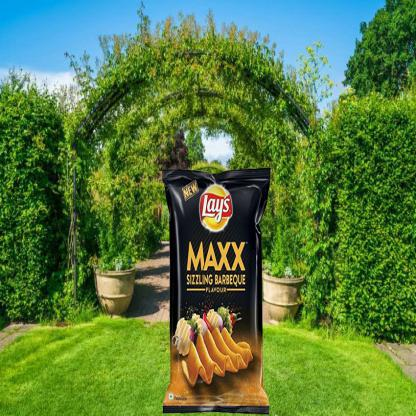maxx_sizzling_barbeque: (165, 169, 264, 414)
